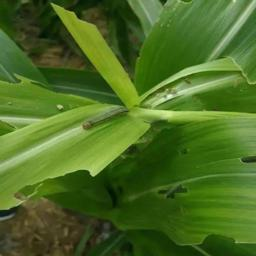Tobacco_budworm: (81, 106, 129, 130)
